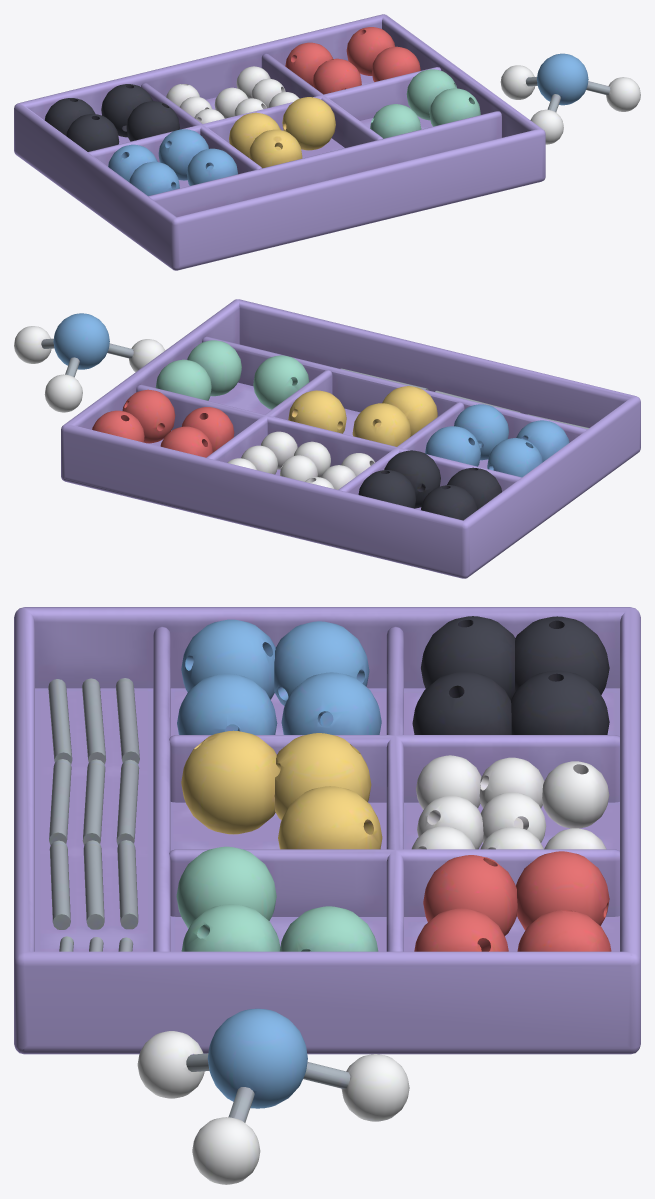
File: atom-pair.glb
The picture shows the model from 3 angles, top to bottom: view 1: azimuth 30°, elevation 25°; view 2: azimuth 150°, elevation 25°; view 3: azimuth 270°, elevation 25°; orthographic projection. The views are drawn at different scales.
Visible parts, largest first — view 1: molecule-model_body; view 2: molecule-model_body; view 3: molecule-model_body.
Part boxes in pixels (box(x1,y1,x2,y2)): molecule-model_body: box(14, 14, 640, 270); molecule-model_body: box(14, 299, 640, 578); molecule-model_body: box(14, 607, 640, 1184).
Bounding box in the file's own units: 0.3336 × 0.0379 × 0.18.
1 material, 1 textured.
